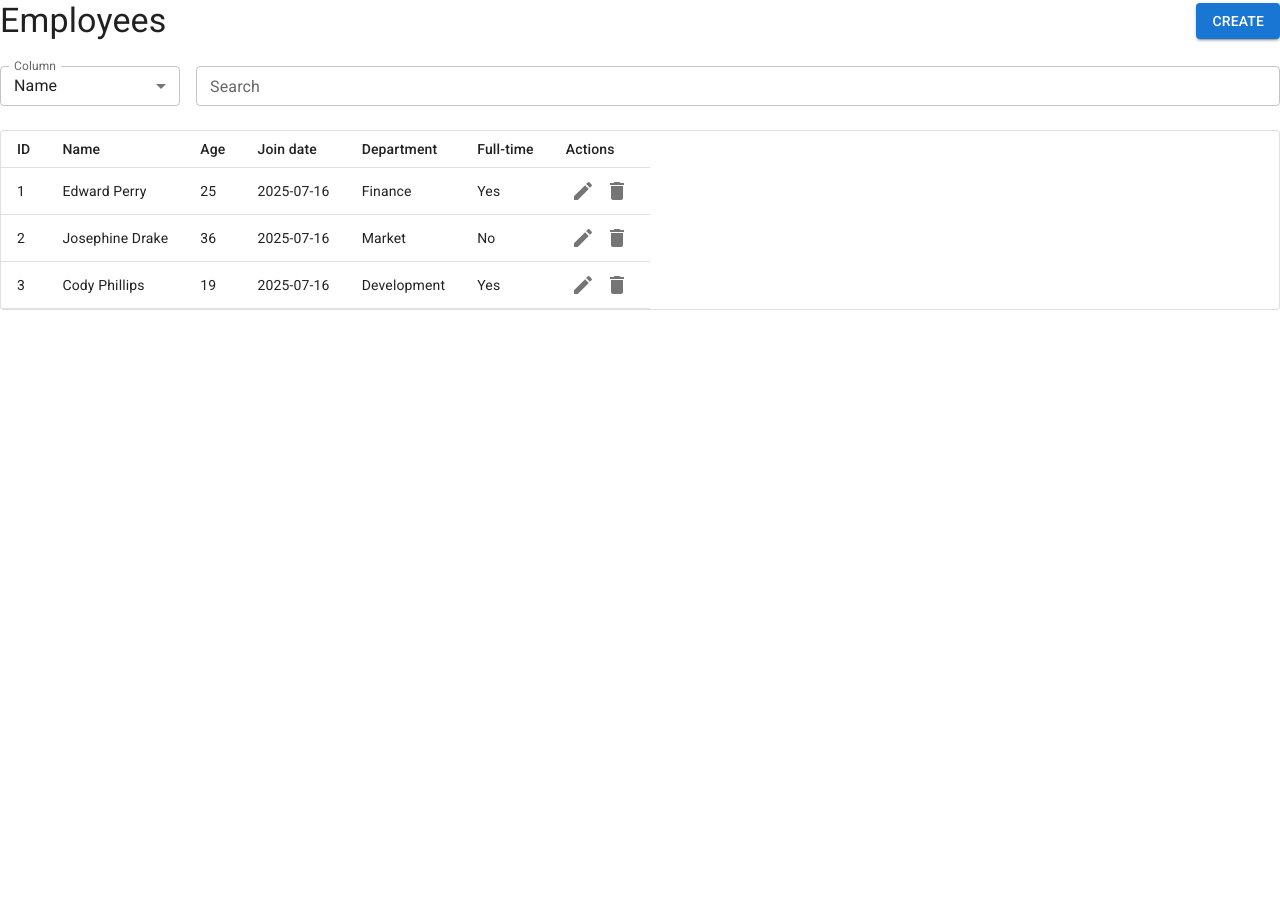
it: EmployeeListPage › 確認をキャンセルするとその行は残る
The image size is (1280, 900).
Expected: the cell "Edward Perry" is shown, [46,168,184,214]
What coordinates should you click on to do the following:
click the button named "Delete Edward Perry"
I would click on:
 (617, 191)
Its box is [600,174,634,208].
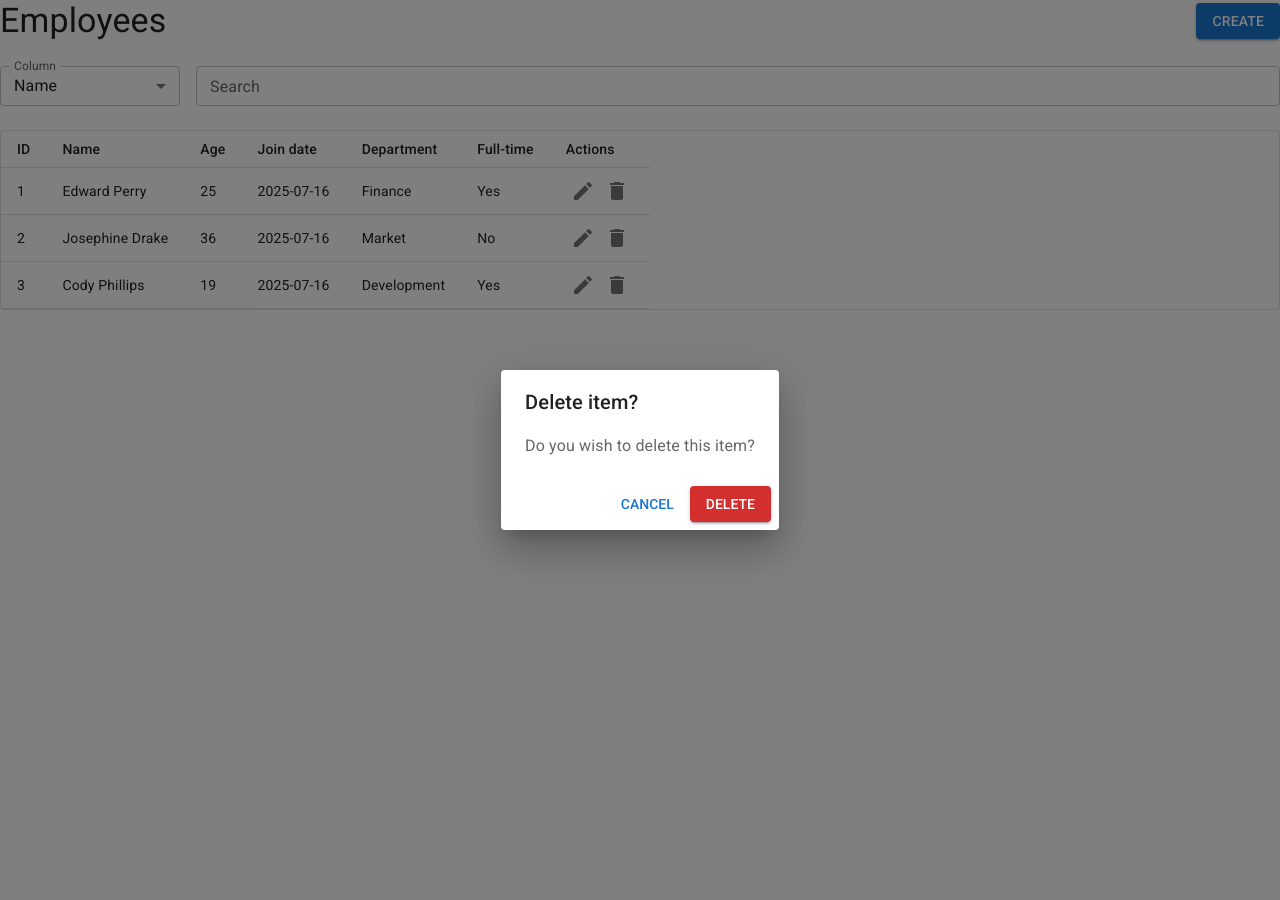
What coordinates should you click on to do the following:
click the button "Cancel"
I would click on:
 (647, 504)
Its box is [613,486,682,522].
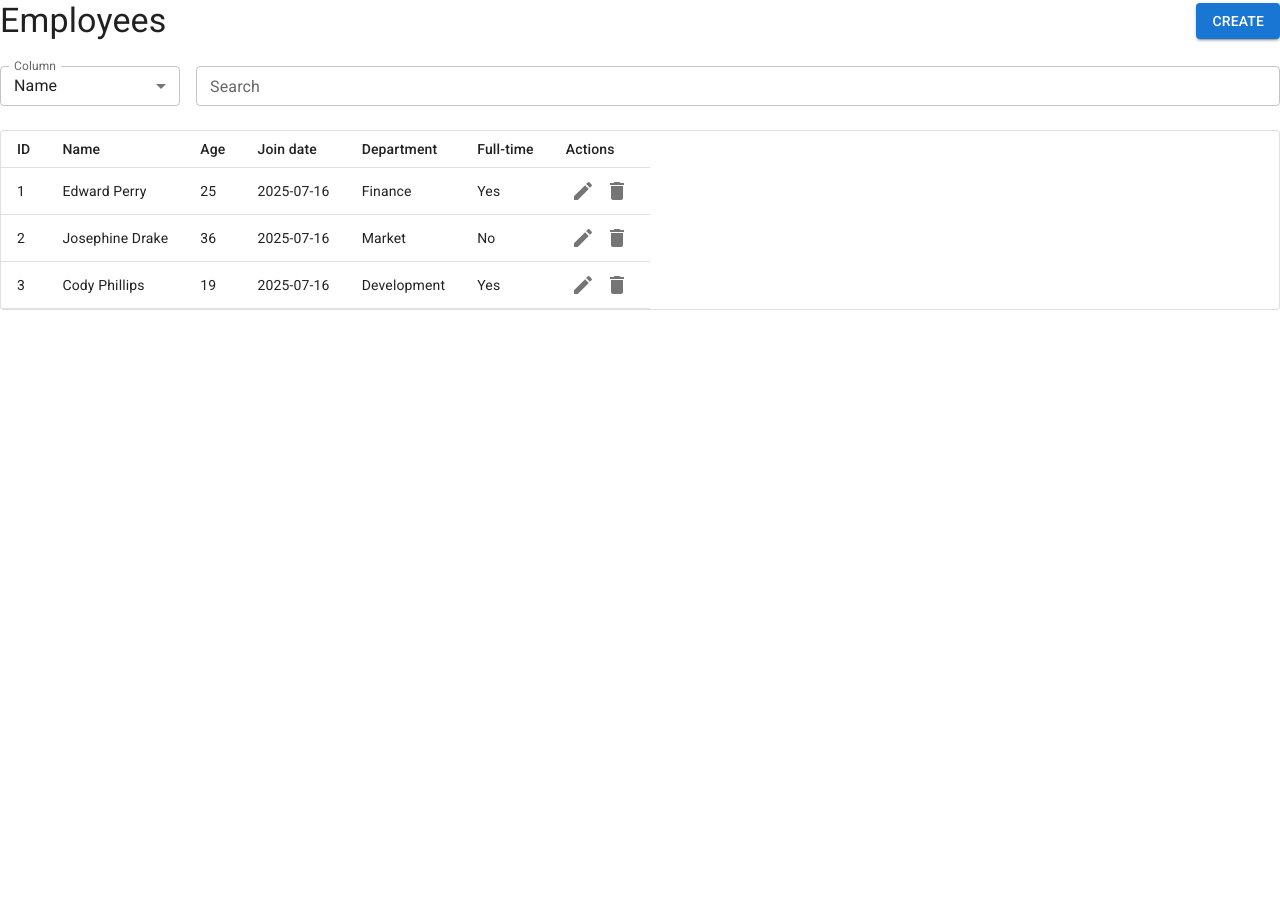
Expected: the cell "Edward Perry" is shown, [46,168,184,214]
Expected: the heading "Delete item?" is gone
